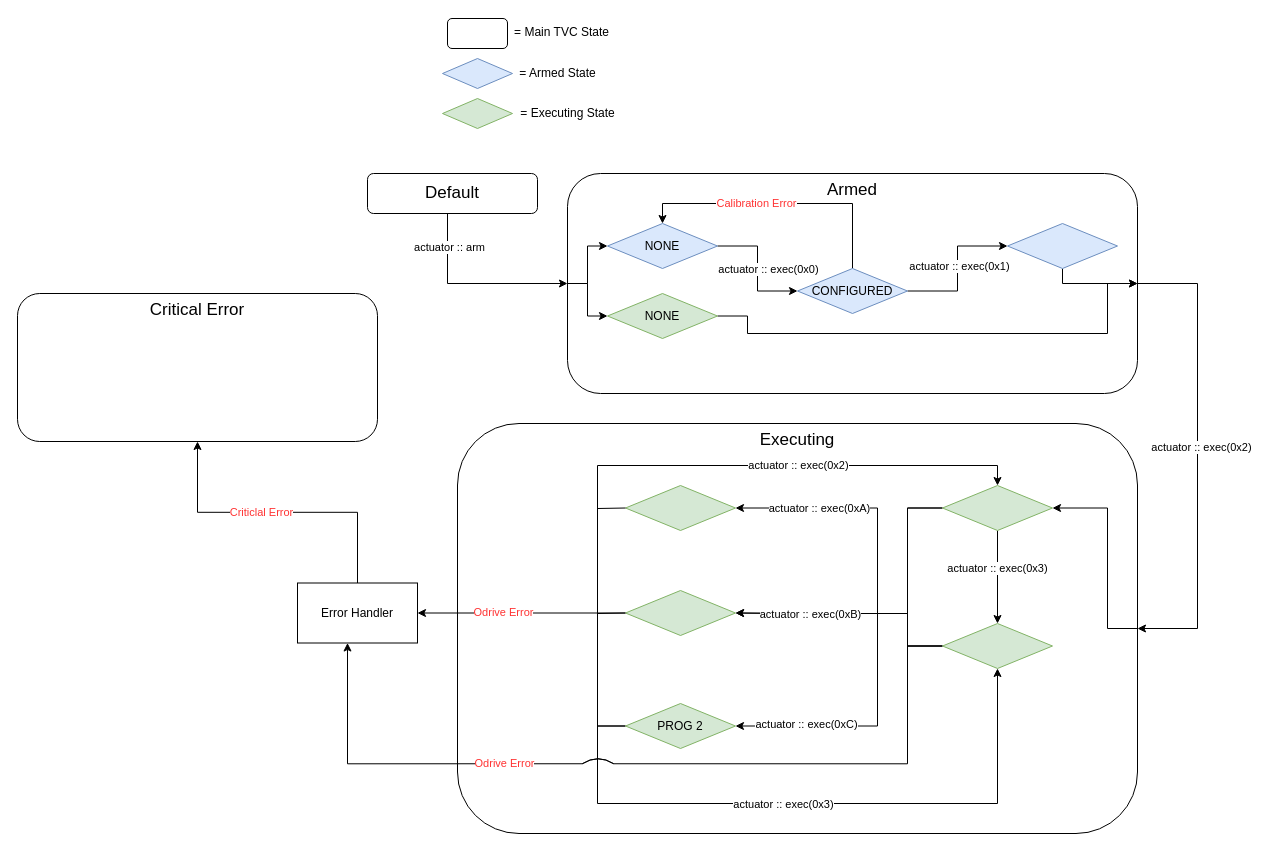
Image size: 1268x851. Some labels were removed from this diagram. Here are the shapes that lost their labels. From the top down, the centre of each, then its label:
At point (1062, 245): "CLOSED LOOP".
At point (680, 507): "PROG 0".
At point (997, 507): "IDLE".
At point (680, 613): "PROG 1".
At point (997, 645): "LOCKED".
